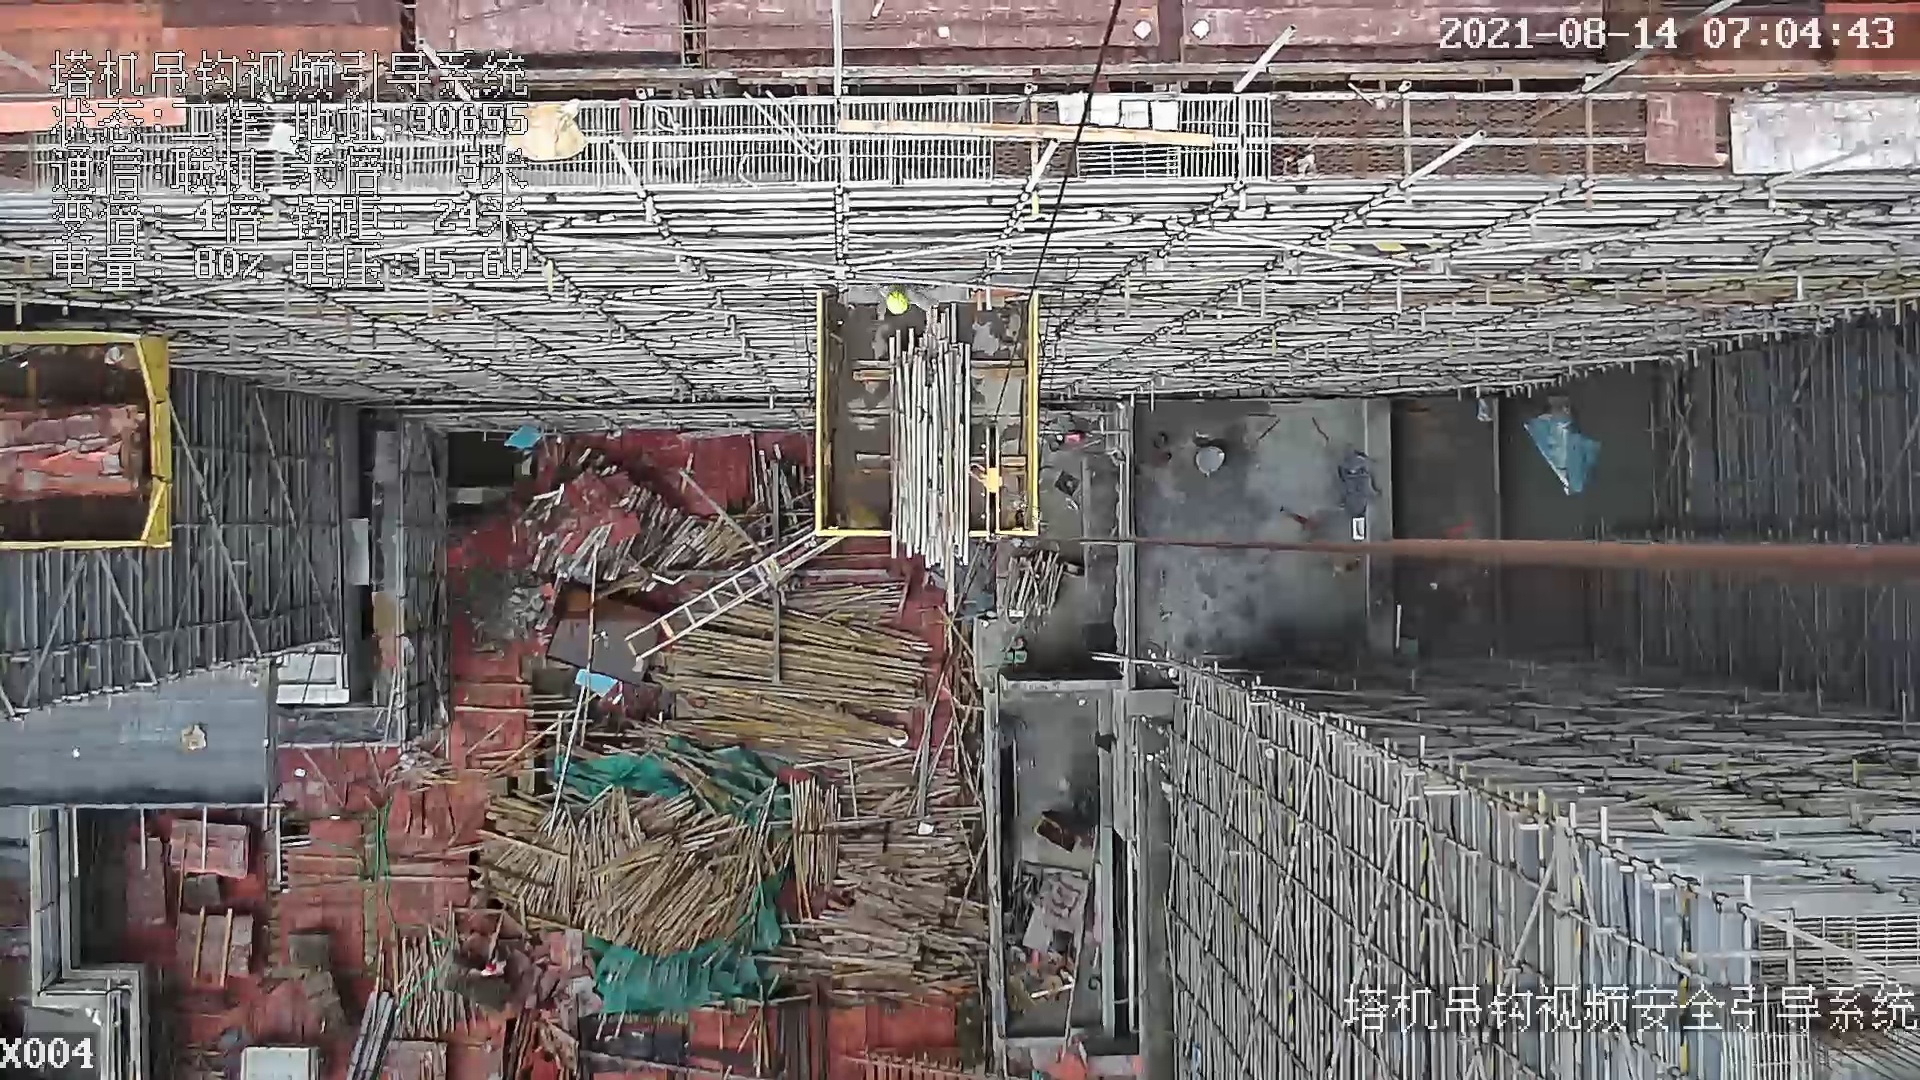helmet: (884, 286, 909, 316)
hook: (974, 423, 1010, 544)
person: (882, 289, 928, 348)
